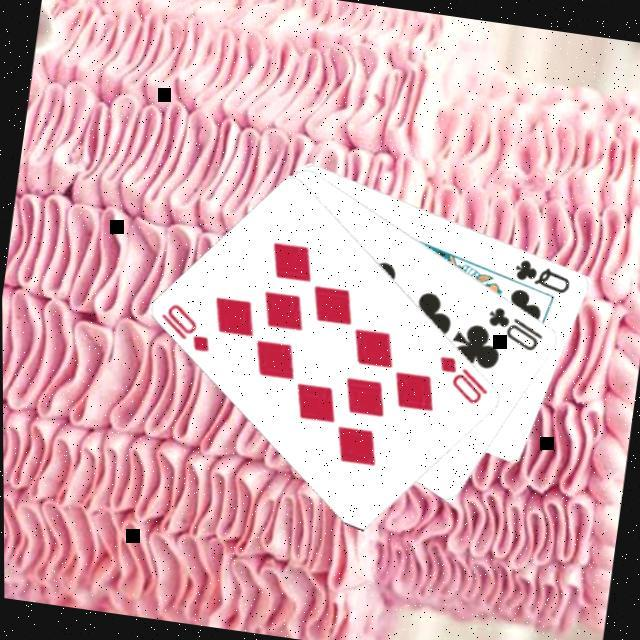10C: (482, 300, 552, 354)
10D: (156, 296, 220, 354), (433, 350, 496, 408)
QC: (512, 252, 578, 296)
